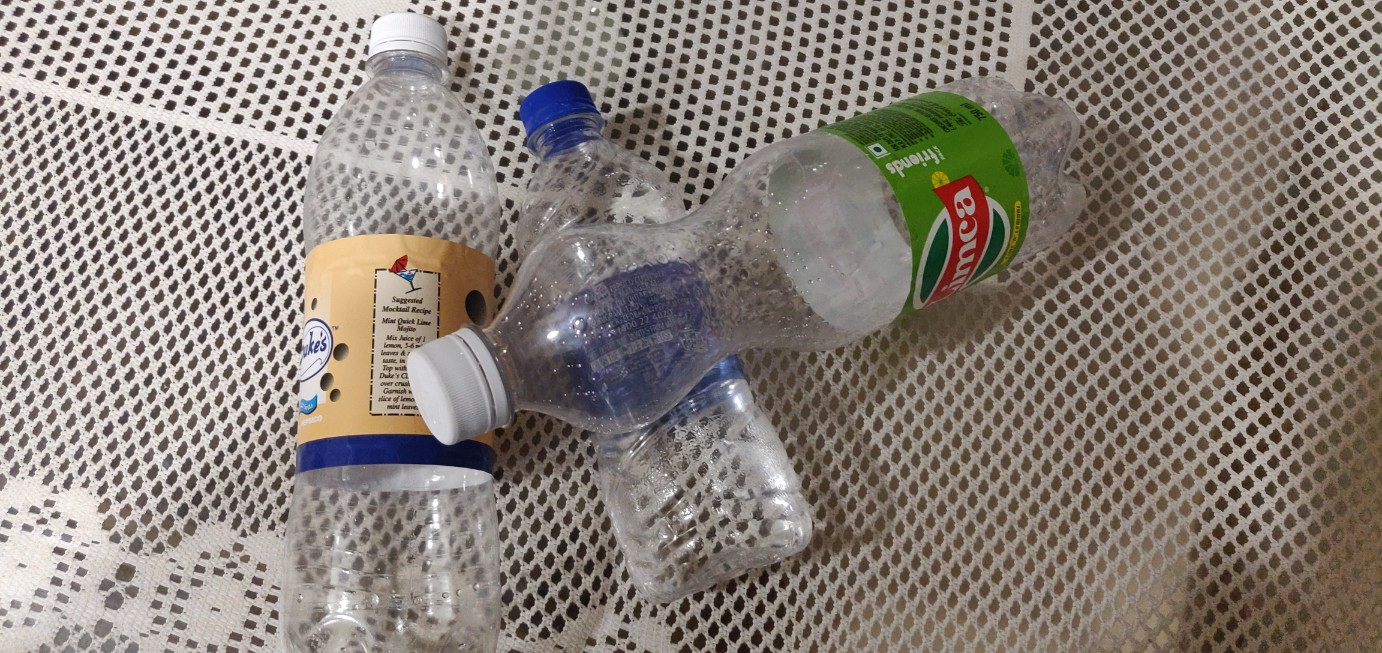Electronics: (376, 45, 1145, 465), (495, 52, 859, 617), (267, 4, 541, 651)
